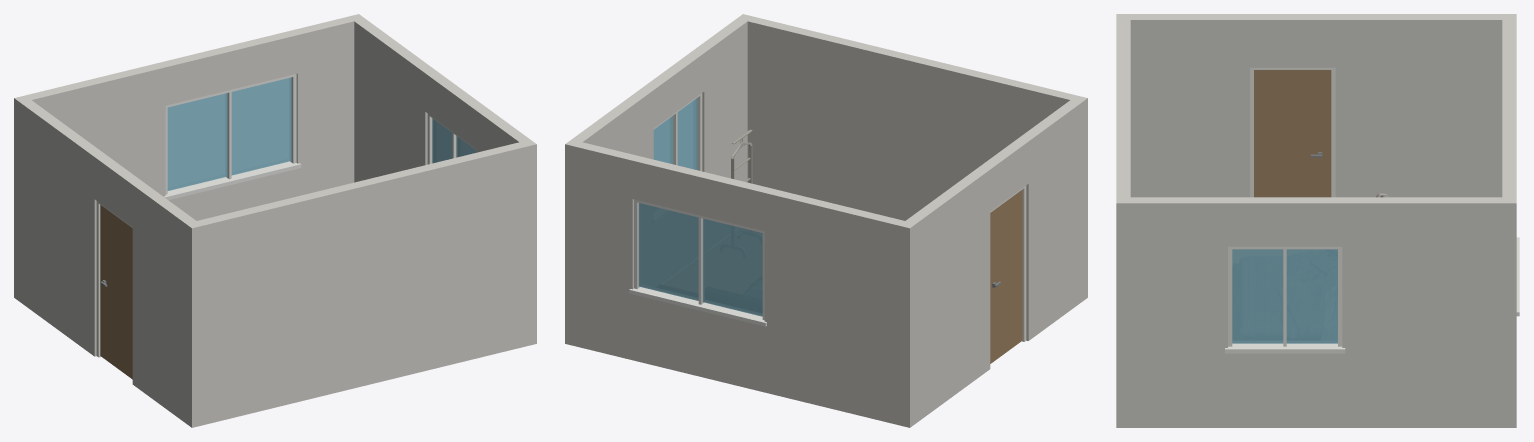
Rendered from diffuscene.glb.
3 views of the same model, side by side, from view 1: azimuth 30°, elevation 25°; view 2: azimuth 150°, elevation 25°; view 3: azimuth 270°, elevation 25° (orthographic). The views are drawn at different scales.
Parts seen in each view (by area): view 1: wall|scenesmith_000__R00|0, wall|scenesmith_000__R00|2, wall|scenesmith_000__R00|1, wall|scenesmith_000__R00|3, wall|scenesmith_000__R00|1 Window 0 | glazing, wall|scenesmith_000__R00|2 Door 0 | wood leaf, wall|scenesmith_000__R00|1 Window 0 | jamb, wall|scenesmith_000__R00|3 Window 0 | glazing, wall|scenesmith_000__R00|2 Door 0 | jamb, wall|scenesmith_000__R00|3 Window 0 | jamb; view 2: wall|scenesmith_000__R00|1, wall|scenesmith_000__R00|0, wall|scenesmith_000__R00|2, wall|scenesmith_000__R00|3, wall|scenesmith_000__R00|1 Window 0 | glazing, wall|scenesmith_000__R00|2 Door 0 | wood leaf, wall|scenesmith_000__R00|1 Window 0 | jamb, wall|scenesmith_000__R00|3 Window 0 | glazing, wall|scenesmith_000__R00|3 Window 0 | jamb, wall|scenesmith_000__R00|2 Door 0 | jamb, raw_model.003; view 3: wall|scenesmith_000__R00|3, wall|scenesmith_000__R00|2, wall|scenesmith_000__R00|2 Door 0 | wood leaf, wall|scenesmith_000__R00|3 Window 0 | glazing, wall|scenesmith_000__R00|3 Window 0 | jamb, wall|scenesmith_000__R00|0, wall|scenesmith_000__R00|1, wall|scenesmith_000__R00|2 Door 0 | jamb.
Boxes of the visible parts, bbox=[...] form: wall|scenesmith_000__R00|0: bbox=[185, 142, 525, 427]; wall|scenesmith_000__R00|2: bbox=[14, 95, 202, 426]; wall|scenesmith_000__R00|1: bbox=[25, 16, 354, 220]; wall|scenesmith_000__R00|3: bbox=[348, 14, 536, 346]; wall|scenesmith_000__R00|1 Window 0 | glazing: bbox=[167, 77, 291, 190]; wall|scenesmith_000__R00|2 Door 0 | wood leaf: bbox=[100, 205, 132, 379]; wall|scenesmith_000__R00|1 Window 0 | jamb: bbox=[163, 74, 301, 200]; wall|scenesmith_000__R00|3 Window 0 | glazing: bbox=[432, 118, 476, 163]; wall|scenesmith_000__R00|2 Door 0 | jamb: bbox=[96, 201, 132, 357]; wall|scenesmith_000__R00|3 Window 0 | jamb: bbox=[427, 114, 476, 164]; wall|scenesmith_000__R00|1: bbox=[576, 142, 904, 425]; wall|scenesmith_000__R00|0: bbox=[747, 16, 1087, 301]; wall|scenesmith_000__R00|2: bbox=[899, 95, 1087, 427]; wall|scenesmith_000__R00|3: bbox=[565, 14, 753, 346]; wall|scenesmith_000__R00|1 Window 0 | glazing: bbox=[638, 203, 762, 316]; wall|scenesmith_000__R00|2 Door 0 | wood leaf: bbox=[990, 189, 1022, 363]; wall|scenesmith_000__R00|1 Window 0 | jamb: bbox=[629, 199, 766, 326]; wall|scenesmith_000__R00|3 Window 0 | glazing: bbox=[653, 98, 697, 170]; wall|scenesmith_000__R00|3 Window 0 | jamb: bbox=[653, 93, 702, 171]; wall|scenesmith_000__R00|2 Door 0 | jamb: bbox=[990, 186, 1026, 341]; raw_model.003: bbox=[731, 129, 752, 183]; wall|scenesmith_000__R00|3: bbox=[1116, 197, 1516, 427]; wall|scenesmith_000__R00|2: bbox=[1116, 14, 1516, 197]; wall|scenesmith_000__R00|2 Door 0 | wood leaf: bbox=[1254, 70, 1331, 197]; wall|scenesmith_000__R00|3 Window 0 | glazing: bbox=[1232, 249, 1337, 343]; wall|scenesmith_000__R00|3 Window 0 | jamb: bbox=[1225, 246, 1345, 353]; wall|scenesmith_000__R00|0: bbox=[1116, 20, 1130, 197]; wall|scenesmith_000__R00|1: bbox=[1502, 20, 1516, 197]; wall|scenesmith_000__R00|2 Door 0 | jamb: bbox=[1250, 67, 1335, 197].
Bounding box in the file's own units: 4.73 × 2.62 × 4.23.
Materials: 10 (4 with a texture image).
